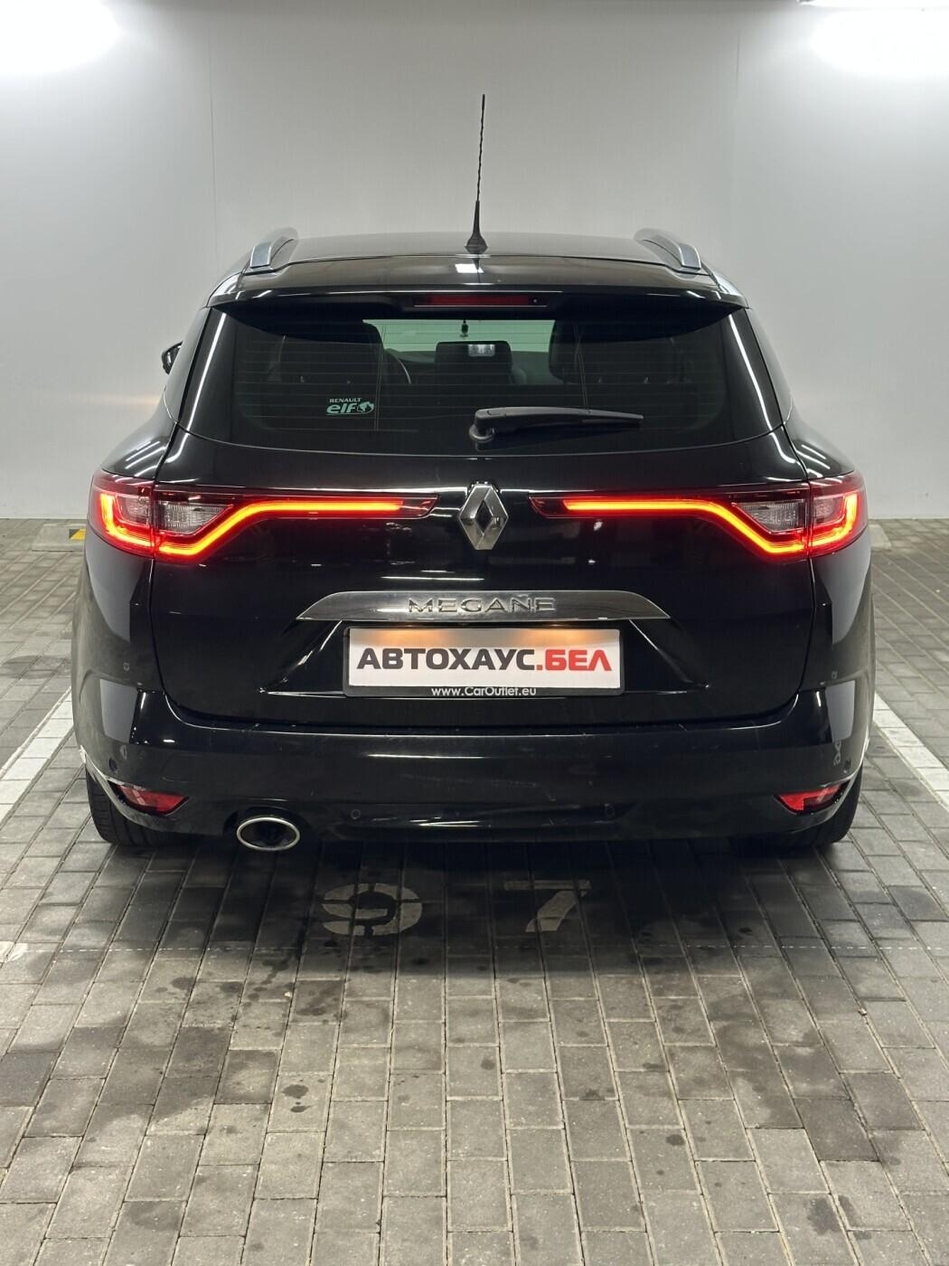Megane_2016-2020: (49, 224, 889, 908)
